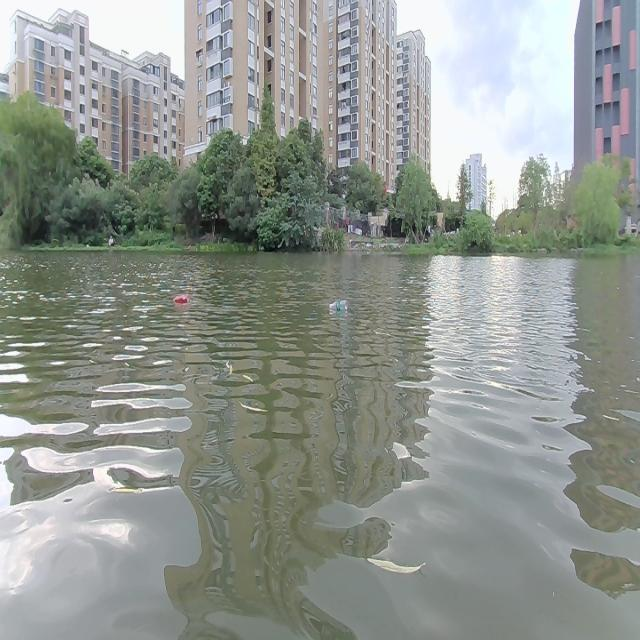bottle: (171, 291, 189, 305), (329, 298, 345, 312)
